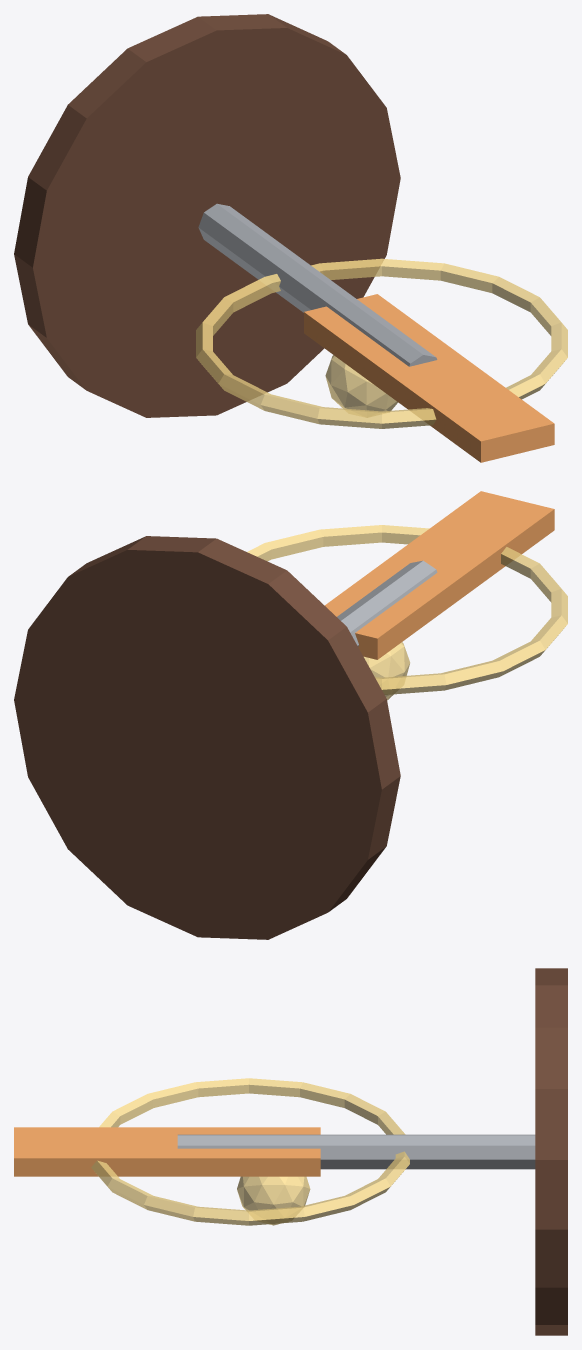
Rendered from 04_item_weapon_finish_overlay_4.glb.
3 renders of one model, top to bottom at view 1: azimuth 30°, elevation 25°; view 2: azimuth 150°, elevation 25°; view 3: azimuth 270°, elevation 25°, orthographic. The views are drawn at different scales.
Visible parts, largest first — view 1: display_base, finish_blade_preview, finish_orbit, weapon_handle_preview, rarity_gem; view 2: display_base, finish_blade_preview, finish_orbit, weapon_handle_preview, rarity_gem; view 3: finish_blade_preview, display_base, finish_orbit, weapon_handle_preview, rarity_gem.
Part boxes in pixels (box(x1,y1,x2,y2)): display_base: box(14, 14, 400, 417); finish_blade_preview: box(304, 294, 554, 462); finish_orbit: box(196, 258, 567, 428); weapon_handle_preview: box(198, 203, 437, 366); rarity_gem: box(325, 355, 397, 411); display_base: box(14, 536, 400, 939); finish_blade_preview: box(325, 491, 554, 659); finish_orbit: box(247, 525, 567, 694); weapon_handle_preview: box(337, 560, 437, 646); rarity_gem: box(364, 642, 410, 700); finish_blade_preview: box(14, 1127, 320, 1176); display_base: box(535, 968, 567, 1335); finish_orbit: box(91, 1078, 409, 1225); weapon_handle_preview: box(177, 1134, 535, 1169); rarity_gem: box(237, 1176, 310, 1225).
Size of the model in its own units: 0.9 by 0.9 by 1.36.
